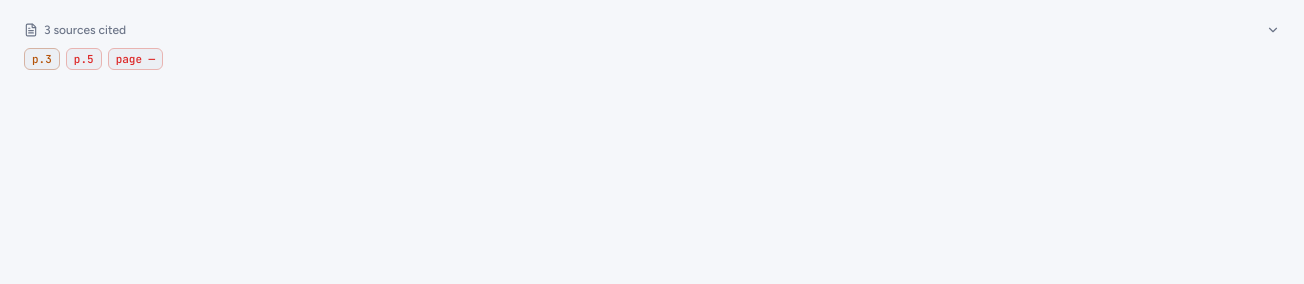
Scenario: SourceCard › expands to show source metadata, View, and excerpt toggle
The width and height of the screenshot is (1304, 284).
Click the button with aria-label "Expand 3 cited sources": (70, 30) [12,12,1292,48]
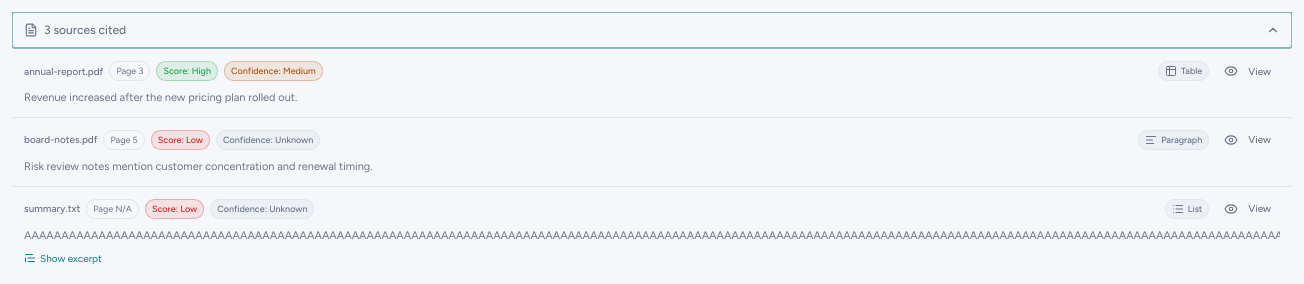
Expected: the button with aria-label "Collapse 3 cited sources" is shown, [12,12,1292,48]
Expected: the text "annual-report.pdf" is shown, [24,64,103,78]
Expected: the text "Page 3" is shown, [109,61,150,81]
Click the button with aria-label "View source page 3": (1248, 71) [1215,59,1280,83]
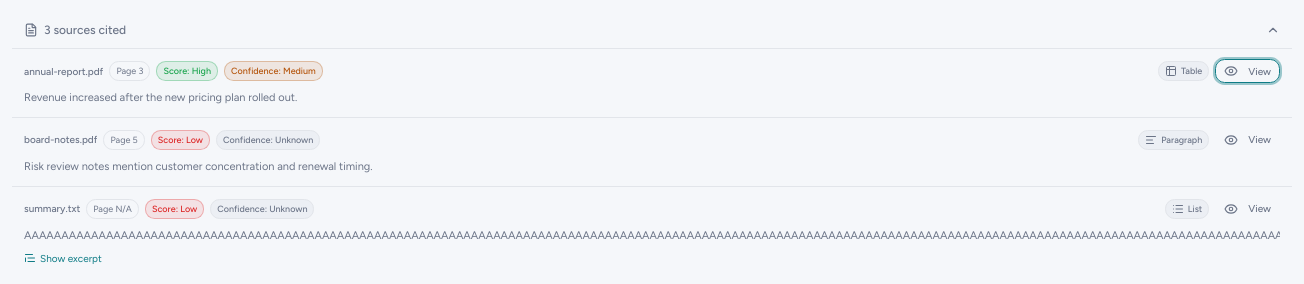
Click the button "Show excerpt": (63, 258) [24,251,102,266]
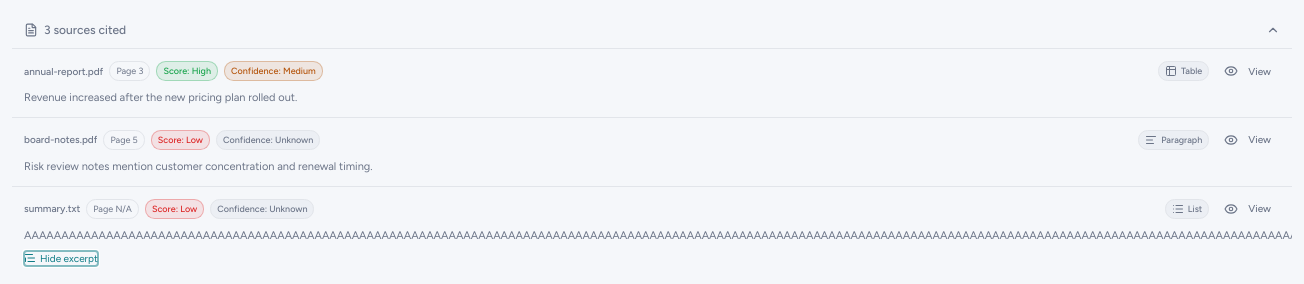
Expected: the button "Hide excerpt" is expanded, [24,251,98,266]
